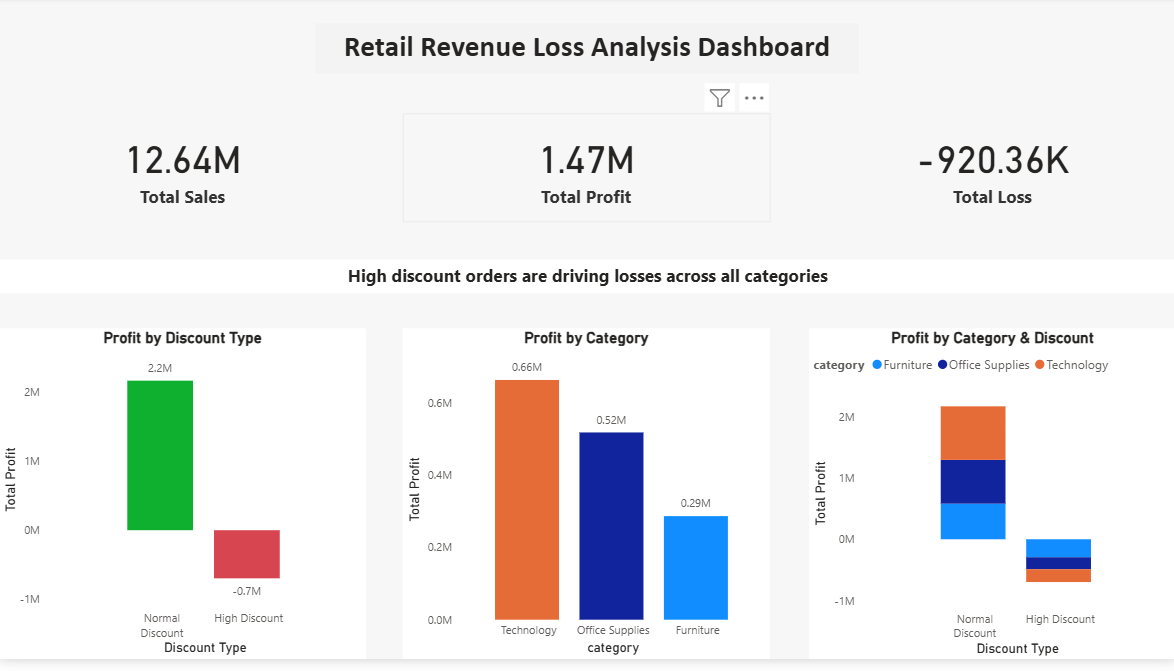

The dashboard page shown, as its layout file describes it:
{"tool":"powerbi","page":{"name":"Page 1","canvas":[1280,720],"ordinal":0},"visuals":[{"type":"card","fields":{"Values":["SuperStoreOrders.Total Sales"]},"box":[0,126.2,399.3,118],"z":0},{"type":"card","fields":{"Values":["SuperStoreOrders.Total Profit"]},"box":[439.1,126.2,399.3,118],"z":1000},{"type":"card","fields":{"Values":["SuperStoreOrders.Total Loss"]},"box":[881,126.2,399.3,118],"z":2000},{"type":"clusteredColumnChart","title":"Profit by Discount Type","fields":{"Category":["SuperStoreOrders.Discount Type"],"Y":["SuperStoreOrders.Total Profit"]},"box":[0,359.5,399.3,360.9],"z":3000},{"type":"clusteredColumnChart","title":"Profit by Category","fields":{"Category":["SuperStoreOrders.category"],"Y":["SuperStoreOrders.Total Profit"]},"box":[439.1,359.5,399.3,360.9],"z":4000},{"type":"columnChart","title":"Profit by Category & Discount","fields":{"Category":["SuperStoreOrders.Discount Type"],"Y":["SuperStoreOrders.Total Profit"],"Series":["SuperStoreOrders.category"]},"box":[881,359.5,399.3,360.9],"z":5000},{"type":"textbox","box":[343.9,28.5,591.2,54.4],"z":6000},{"type":"textbox","box":[0,285.4,1280.3,37],"z":7000}]}

Visuals, with their boxes in screenshot pixels (x1, y1, x2, y2), scaled from the page's 1280x720 canvas onto the 1174x671 screenshot:
card - SuperStoreOrders.Total Sales: 0,118,366,228
card - SuperStoreOrders.Total Profit: 403,118,769,228
card - SuperStoreOrders.Total Loss: 808,118,1173,228
"Profit by Discount Type" clusteredColumnChart: 0,335,366,670
"Profit by Category" clusteredColumnChart: 403,335,769,670
"Profit by Category & Discount" columnChart: 808,335,1173,670
textbox: 315,27,858,77
textbox: 0,266,1173,300
